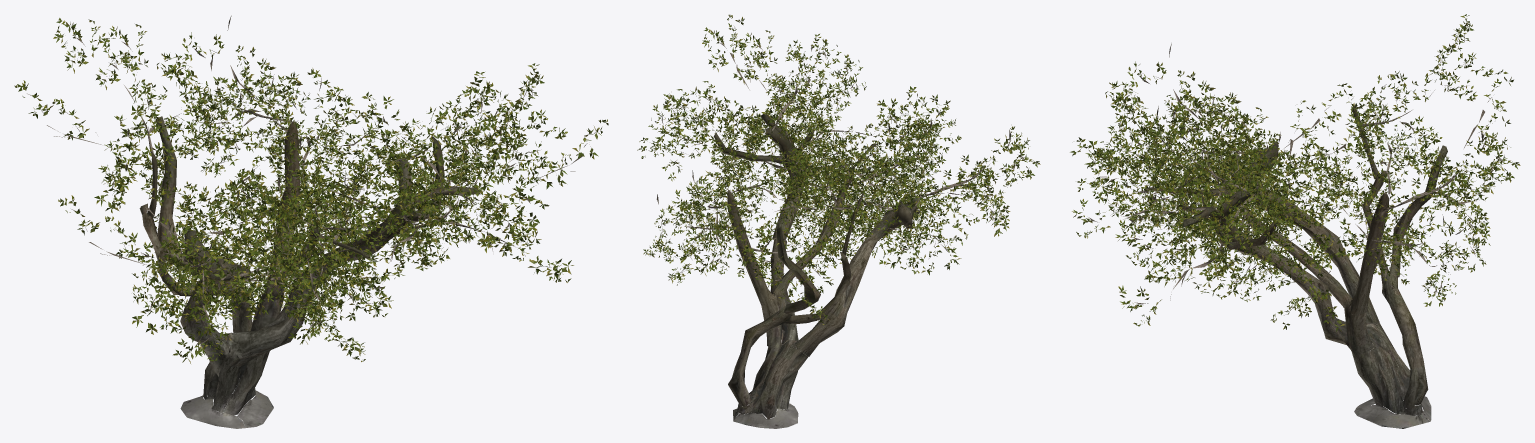
Rendered from olive3d.glb.
3 renders of one model, left to right at view 1: azimuth 30°, elevation 25°; view 2: azimuth 150°, elevation 25°; view 3: azimuth 270°, elevation 25°, orthographic. The views are drawn at different scales.
Visible parts, largest first — view 1: Olive3D; view 2: Olive3D; view 3: Olive3D.
Boxes of the visible parts, box(x1,y1,x2,y2) form: Olive3D: box(14, 15, 608, 428); Olive3D: box(637, 14, 1040, 428); Olive3D: box(1070, 14, 1520, 428).
Size of the model in its own units: 3.86 by 3.4 by 4.07.
Materials: 3 (3 with a texture image).
